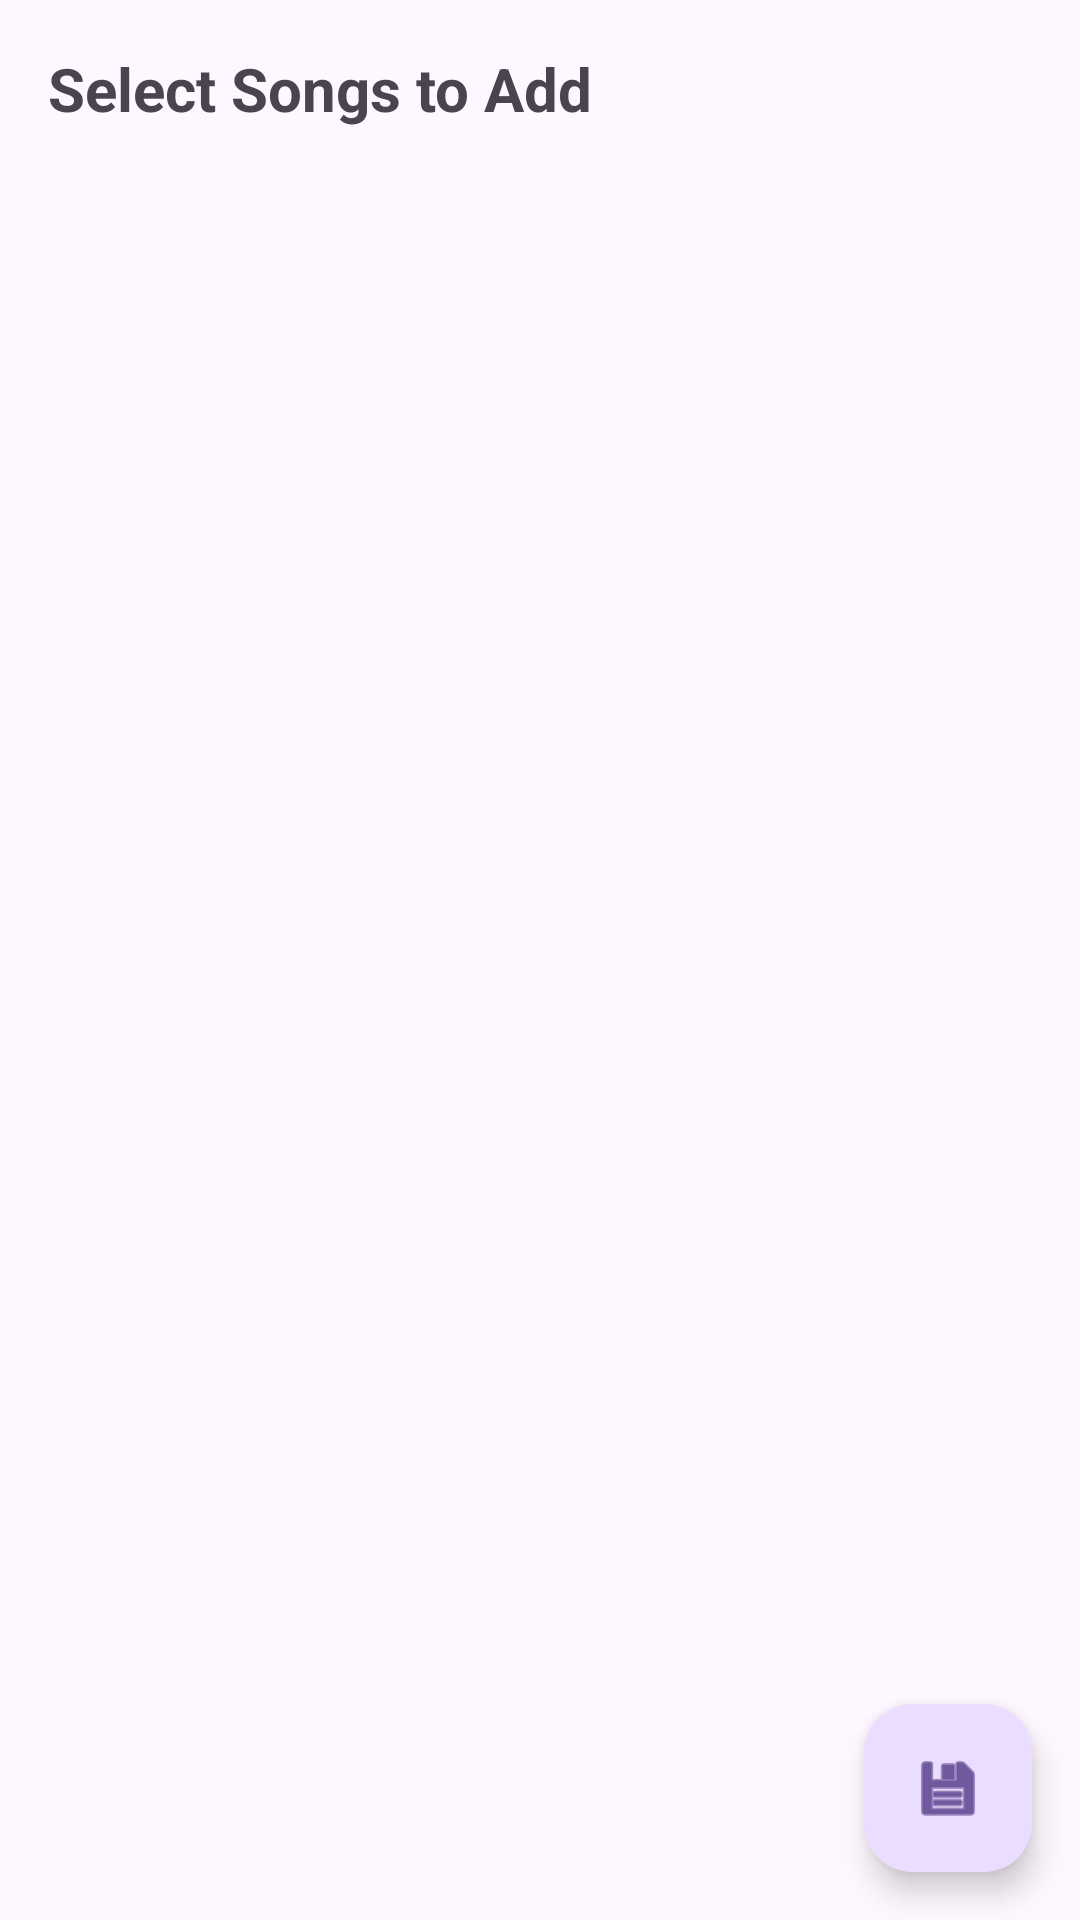

Named icons in this screenshot (1080 × 1920) and their bounding boxes, [left=x1, top=y1, right=x2, bottom=y2]:
Save Changes: [left=864, top=1704, right=1032, bottom=1872]
